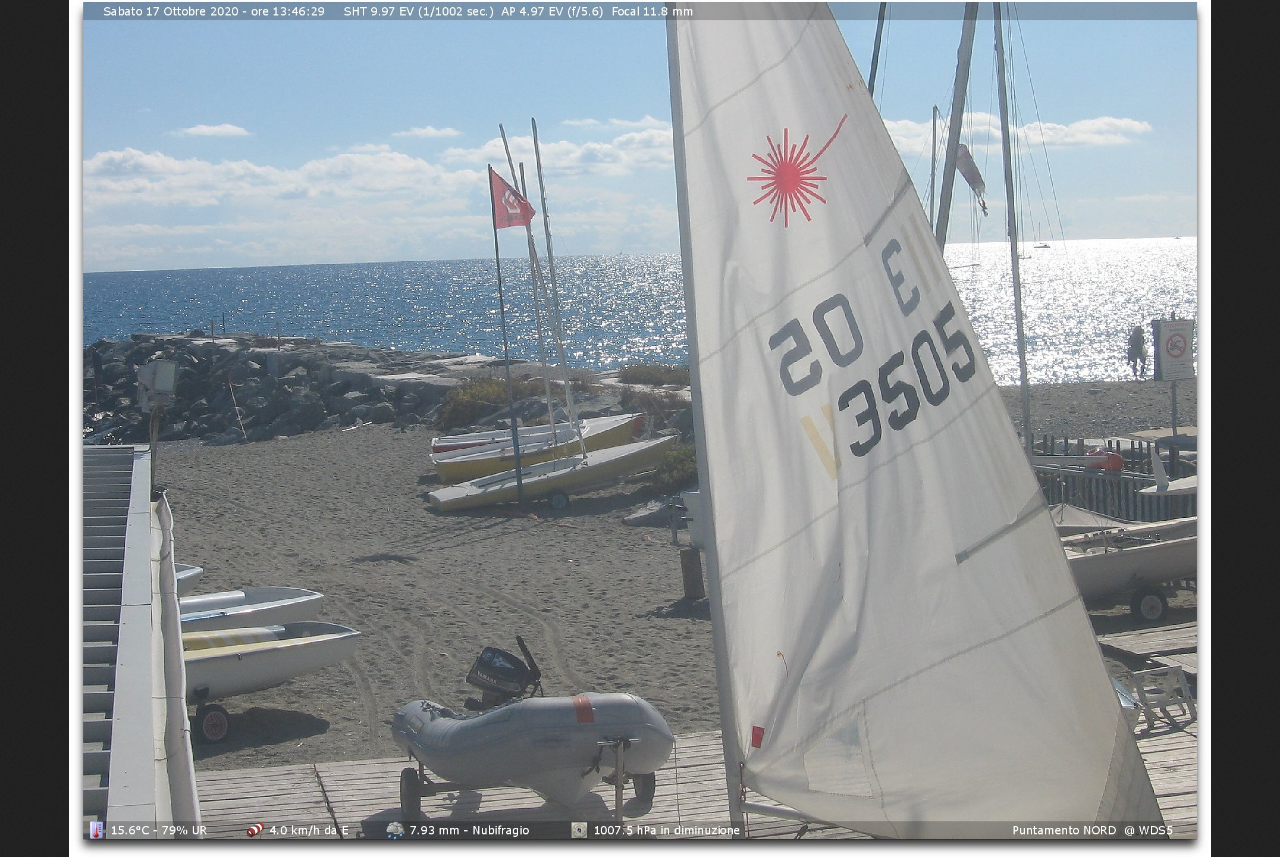maybe: (485, 165, 536, 229)
